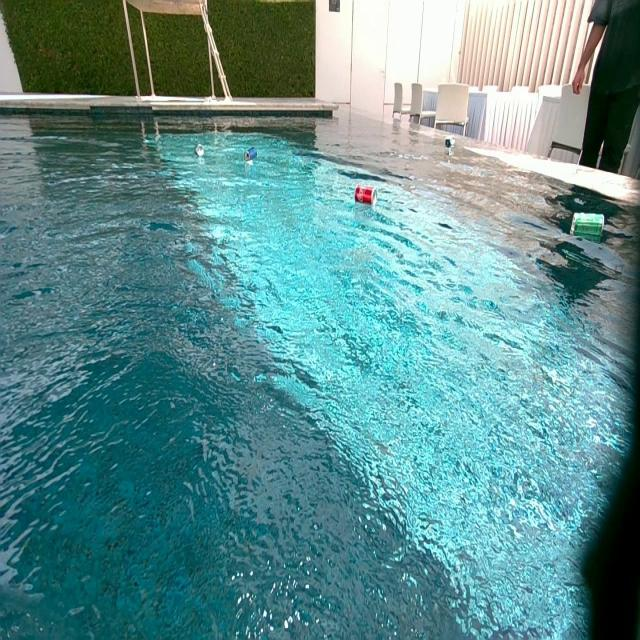Cans: (569, 212, 605, 236), (354, 184, 375, 204), (244, 147, 257, 161), (194, 144, 203, 157), (197, 145, 206, 157), (446, 137, 455, 148)
